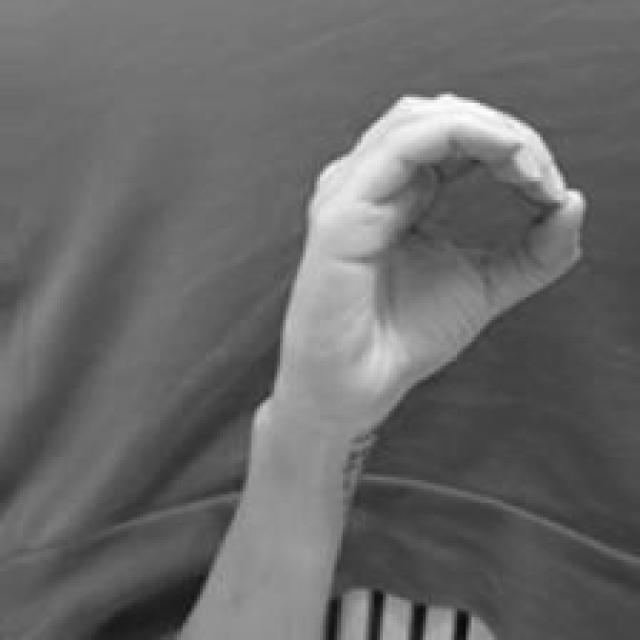O: (260, 84, 592, 484)
